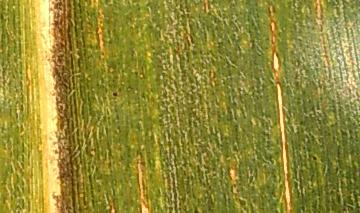tarspot: (108, 88, 121, 101), (308, 152, 321, 164)
